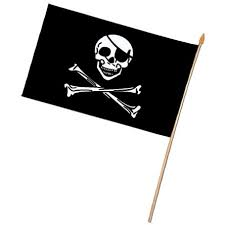Jolly Roger Flag: (17, 2, 199, 139)
